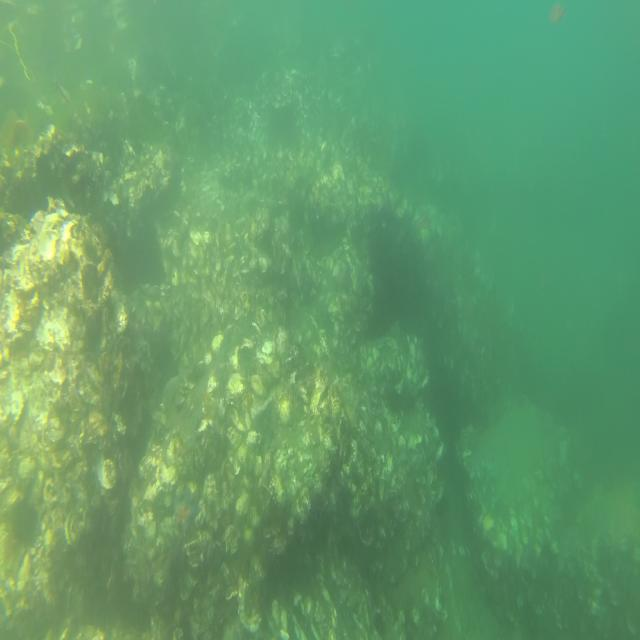echinus: (10, 501, 38, 546), (386, 388, 401, 417)
starfish: (171, 495, 199, 537), (332, 264, 349, 292)
